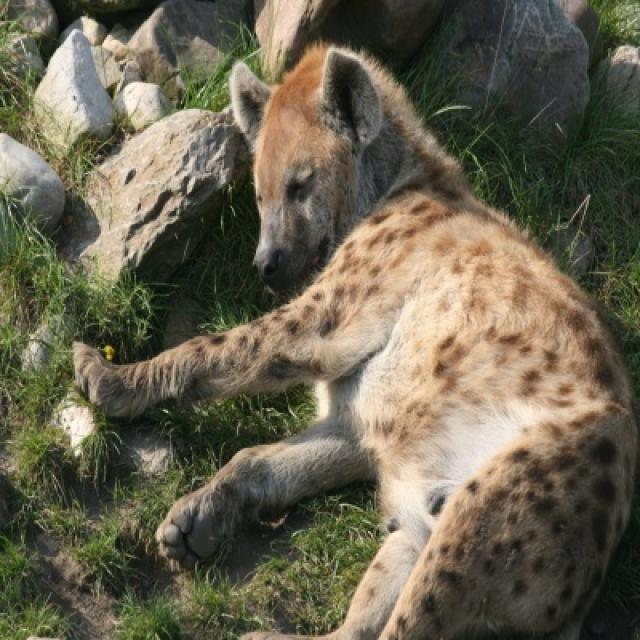hyena: (74, 45, 638, 638)
